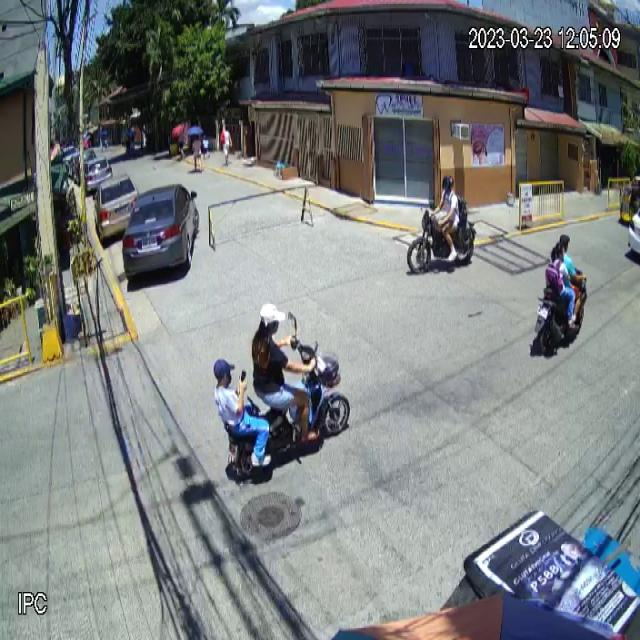Car: (122, 181, 201, 282)
Motorcycle: (407, 199, 478, 275), (534, 266, 588, 356)
